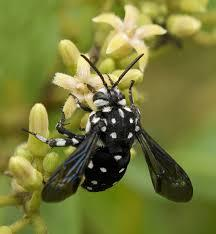Thyreus: (21, 46, 201, 200)
